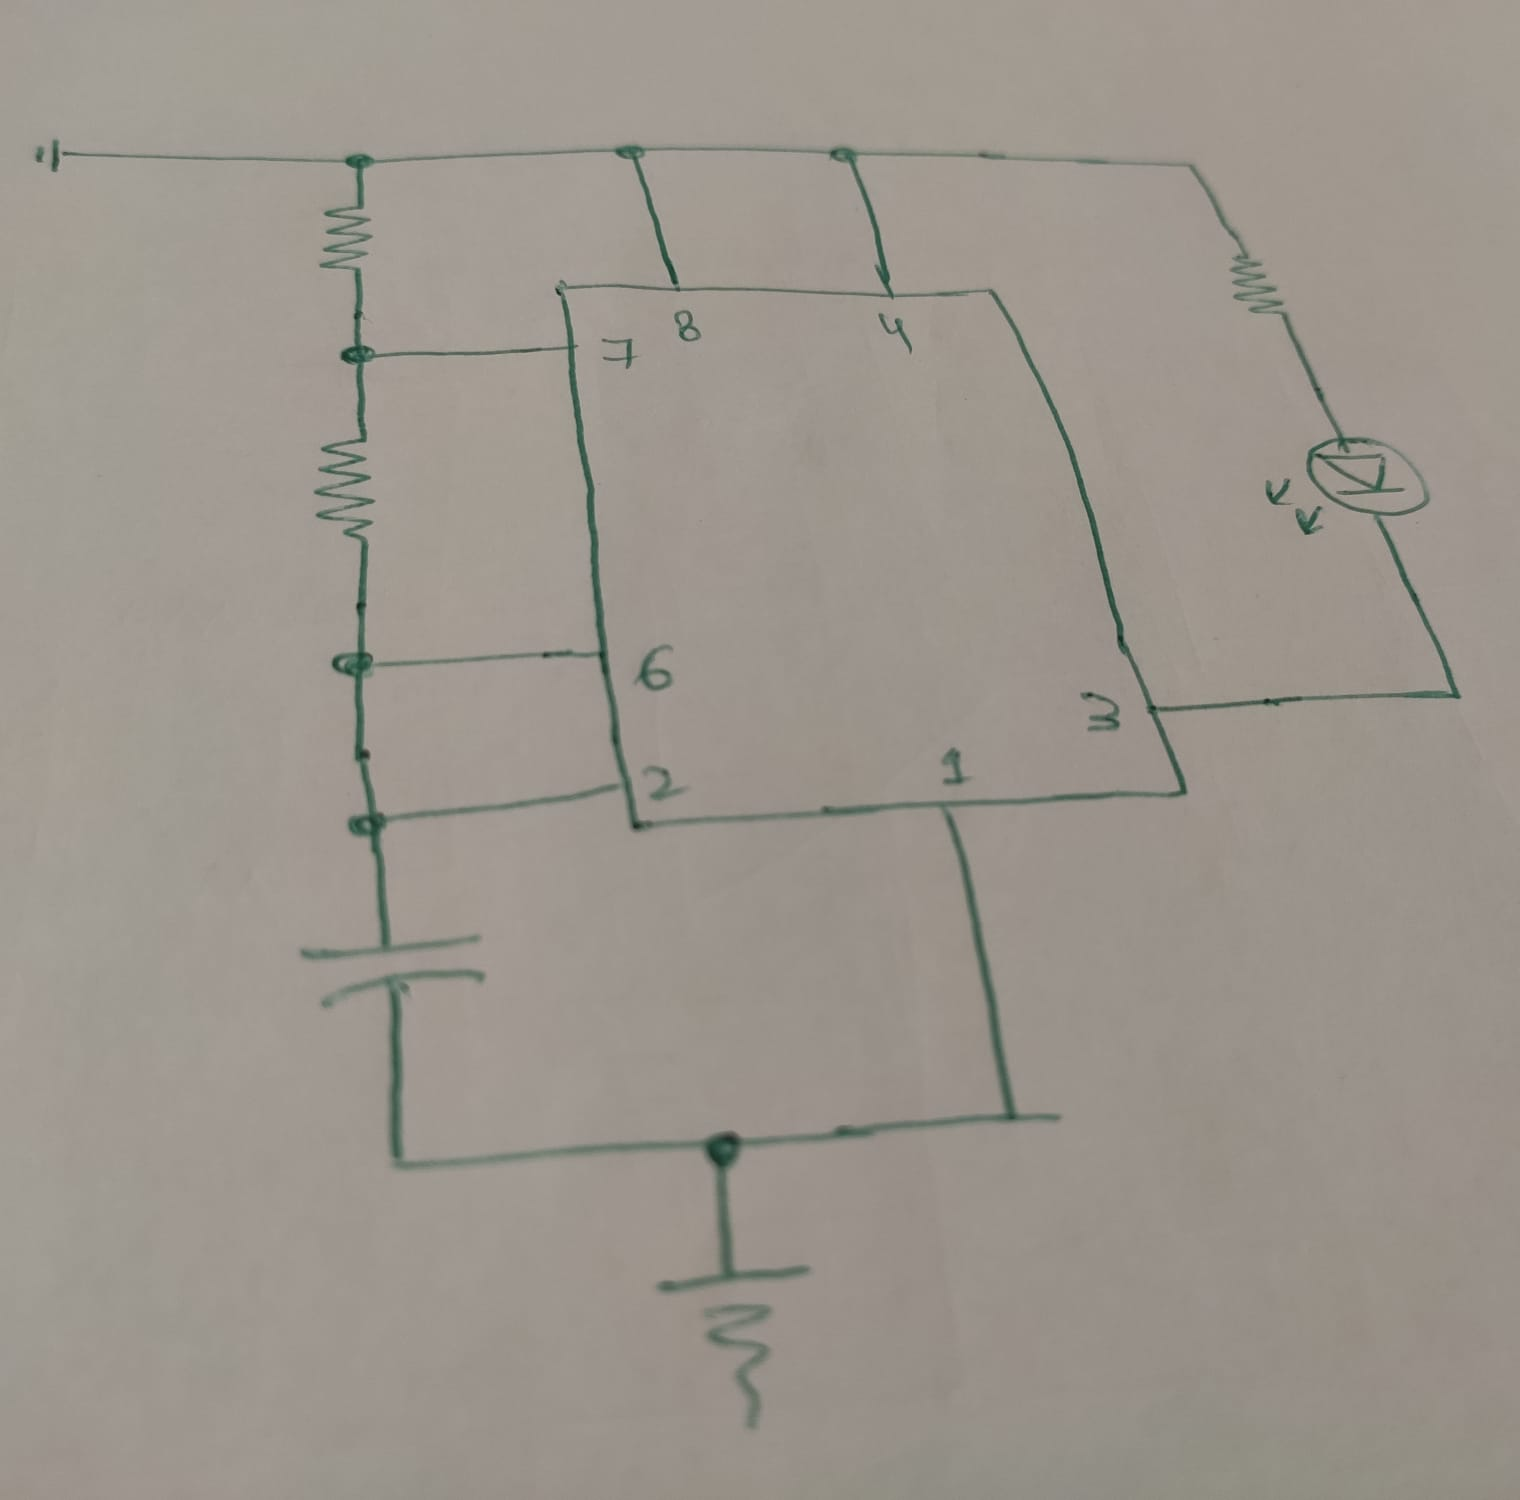capacitor.unpolarized: (288, 916, 507, 1012)
diode.light_emitting: (1254, 424, 1443, 545)
gnd: (656, 1255, 810, 1424)
integrated_circuit: (545, 272, 1199, 841)
junction: (698, 1124, 757, 1173), (325, 637, 383, 685), (341, 795, 395, 841), (376, 1136, 426, 1185), (991, 1093, 1035, 1139), (1171, 143, 1212, 185), (338, 337, 379, 374), (608, 135, 652, 168), (1432, 676, 1472, 712), (341, 143, 375, 180), (829, 137, 860, 173)
resistor: (308, 427, 383, 549), (314, 199, 383, 287), (1219, 245, 1292, 319)
text: (629, 637, 678, 696), (1075, 683, 1125, 740), (875, 308, 921, 357), (641, 755, 681, 804), (936, 740, 969, 787), (606, 330, 641, 367), (670, 304, 706, 341)
voltage.dc: (23, 132, 71, 180)
